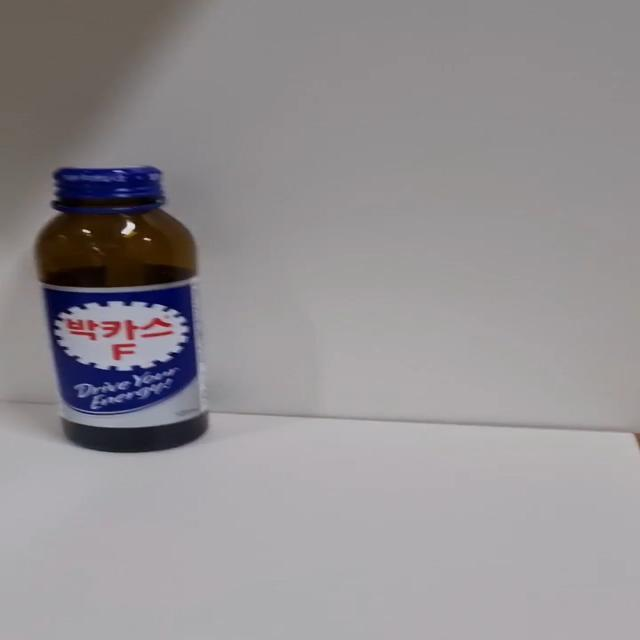Glass: (31, 166, 210, 456)
